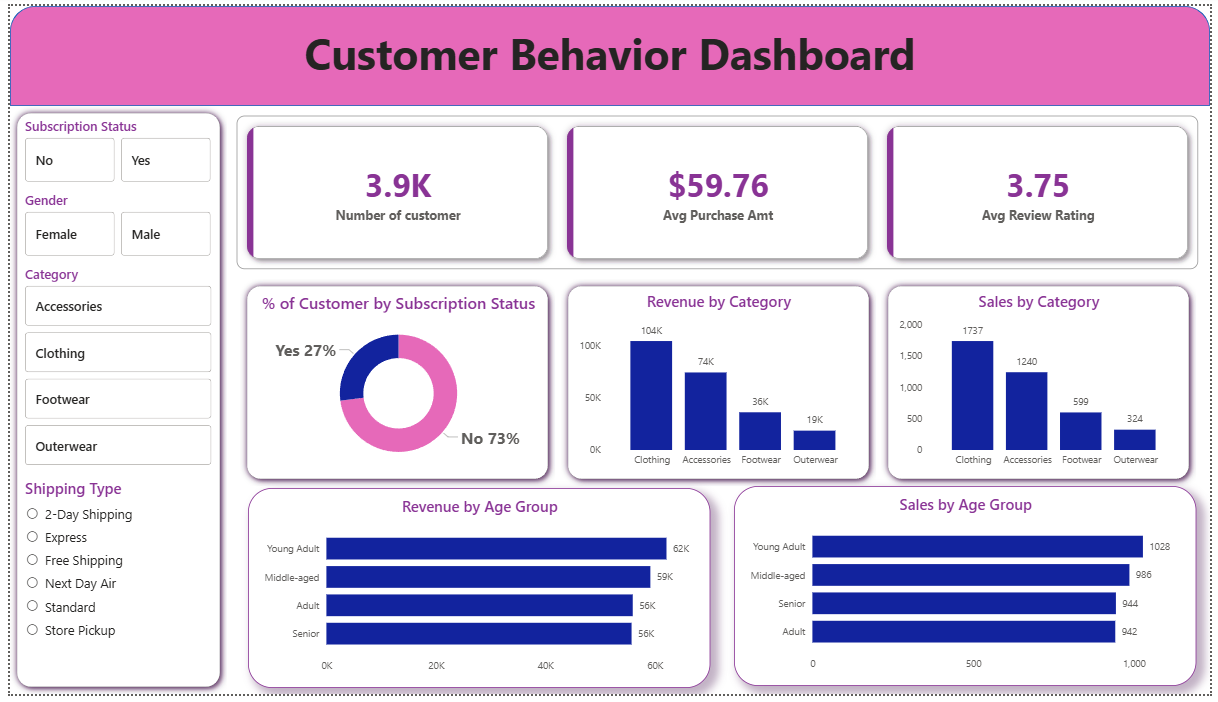

The dashboard page shown, as its layout file describes it:
{"tool":"powerbi","page":{"name":"Page 1","canvas":[1500,860],"ordinal":0},"visuals":[{"type":"cardVisual","fields":{"Data":["customer_behavior customer.Number of customer","customer_behavior customer.Average Purchase Amount","customer_behavior customer.Avg Review Rating"]},"box":[271.2,125,1228.8,216.2],"z":0},{"type":"shape","box":[0,0,1500,125],"z":1000},{"type":"textbox","box":[0,17.5,1500,107.5],"z":2000},{"type":"shape","box":[287.5,341.2,393.8,258.8],"z":3000},{"type":"donutChart","title":"% of Customer by Subscription Status","fields":{"Category":["customer_behavior customer.subscription_status"],"Y":["Count(customer_behavior customer.customer_id)"]},"box":[303.8,356.2,363.8,228.8],"z":4000},{"type":"shape","box":[688.1,341.2,393.8,258.8],"z":5000},{"type":"shape","box":[1088.8,341.2,393.8,258.8],"z":6000},{"type":"clusteredColumnChart","title":"Revenue by Category","fields":{"Y":["Sum(customer_behavior customer.purchase_amount)"],"Category":["customer_behavior customer.category"]},"box":[706.2,356.2,360,228.8],"z":7000},{"type":"clusteredColumnChart","title":"Sales by Category","fields":{"Y":["CountNonNull(customer_behavior customer.purchase_amount)"],"Category":["customer_behavior customer.category"]},"box":[1106.2,356.2,360,228.8],"z":8000},{"type":"shape","box":[0,125,271.2,735],"z":9000},{"type":"advancedSlicerVisual","fields":{"Values":["customer_behavior customer.subscription_status"]},"box":[13.8,138.8,243.8,86.2],"z":10000},{"type":"advancedSlicerVisual","fields":{"Values":["customer_behavior customer.gender"]},"box":[13.8,231.2,243.8,86.2],"z":11000},{"type":"advancedSlicerVisual","title":"Category","fields":{"Values":["customer_behavior customer.category"]},"box":[13.8,323.8,243.8,255],"z":12000},{"type":"listSlicer","title":"Shipping Type","fields":{"Values":["customer_behavior customer.shipping_type"]},"box":[13.8,590,243.8,270],"z":13000},{"type":"clusteredBarChart","title":"Revenue by Age Group","fields":{"Category":["customer_behavior customer.age_group"],"Y":["Sum(customer_behavior customer.purchase_amount)"]},"box":[297.5,602.5,577.5,250],"z":14000},{"type":"clusteredBarChart","title":"Sales by Age Group","fields":{"Category":["customer_behavior customer.age_group"],"Y":["CountNonNull(customer_behavior customer.customer_id)"]},"box":[905,600,577.5,250],"z":14001}]}

Visuals, with their boxes in screenshot pixels (x1, y1, x2, y2), scaled from the page's 1500x860 canvas onto the 1218x702 screenshot:
cardVisual - customer_behavior customer.Number of customer x customer_behavior customer.Average Purchase Amount: box(220, 102, 1217, 279)
shape: box(0, 0, 1217, 102)
textbox: box(0, 14, 1217, 102)
shape: box(233, 279, 553, 490)
"% of Customer by Subscription Status" donutChart: box(247, 291, 542, 478)
shape: box(559, 279, 879, 490)
shape: box(884, 279, 1204, 490)
"Revenue by Category" clusteredColumnChart: box(573, 291, 866, 478)
"Sales by Category" clusteredColumnChart: box(898, 291, 1191, 478)
shape: box(0, 102, 220, 701)
advancedSlicerVisual - customer_behavior customer.subscription_status: box(11, 113, 209, 184)
advancedSlicerVisual - customer_behavior customer.gender: box(11, 189, 209, 259)
"Category" advancedSlicerVisual: box(11, 264, 209, 472)
"Shipping Type" listSlicer: box(11, 482, 209, 701)
"Revenue by Age Group" clusteredBarChart: box(242, 492, 710, 696)
"Sales by Age Group" clusteredBarChart: box(735, 490, 1204, 694)
